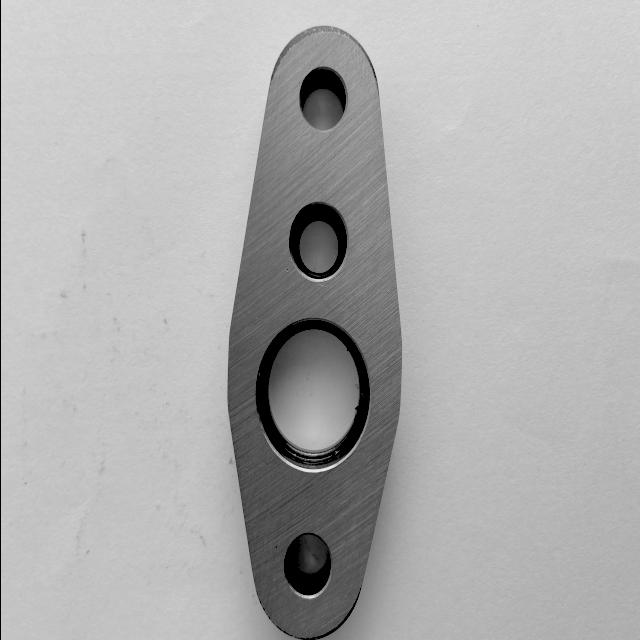chap: (316, 281, 326, 291), (282, 265, 290, 277)
